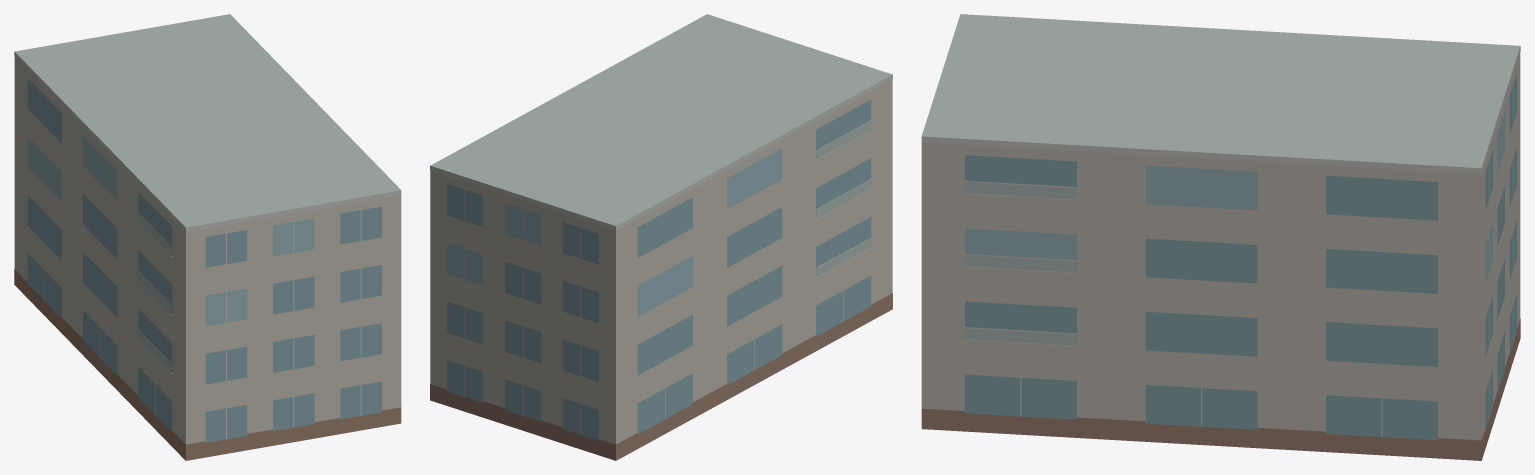
The model's file is residential-f0da2dfe-595c-464c-a83a-f98f75d7074c.glb.
The picture shows the model from 3 angles, left to right: view 1: azimuth 30°, elevation 25°; view 2: azimuth 150°, elevation 25°; view 3: azimuth 270°, elevation 25°; orthographic projection. The views are drawn at different scales.
Visible parts, largest first — view 1: residential-f0da2dfe-595c-464c-a83a-f98f75d7074c.tmp; view 2: residential-f0da2dfe-595c-464c-a83a-f98f75d7074c.tmp; view 3: residential-f0da2dfe-595c-464c-a83a-f98f75d7074c.tmp.
Boxes of the visible parts, x1,y1,x2,y2 form: residential-f0da2dfe-595c-464c-a83a-f98f75d7074c.tmp: [14, 14, 401, 460]; residential-f0da2dfe-595c-464c-a83a-f98f75d7074c.tmp: [430, 14, 892, 460]; residential-f0da2dfe-595c-464c-a83a-f98f75d7074c.tmp: [921, 14, 1520, 460].
Bounding box in the file's own units: 13.8 × 12.2 × 22.64.
